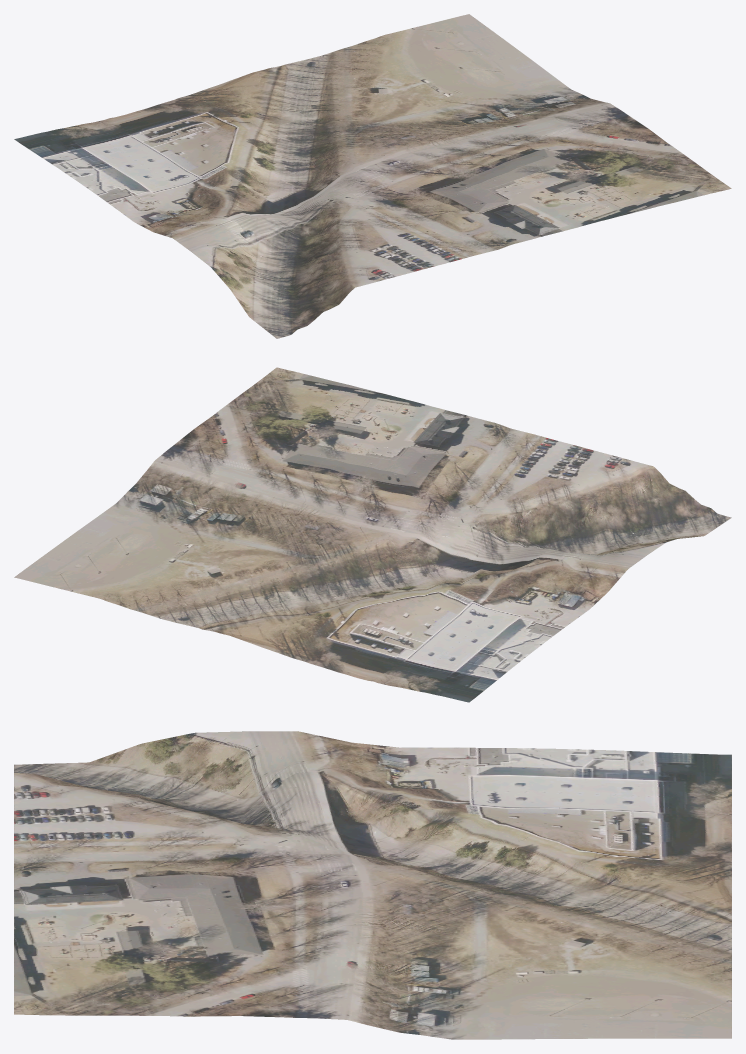
The model's file is CM_Terrain_24488410_6820613.fbx.
The picture shows the model from 3 angles, top to bottom: view 1: azimuth 30°, elevation 25°; view 2: azimuth 150°, elevation 25°; view 3: azimuth 270°, elevation 25°; orthographic projection. The views are drawn at different scales.
Parts seen in each view (by area): view 1: CM_Terrain_24488410_6820613_LOD0; view 2: CM_Terrain_24488410_6820613_LOD0; view 3: CM_Terrain_24488410_6820613_LOD0.
Boxes of the visible parts, left/top/right/bottom form: CM_Terrain_24488410_6820613_LOD0: left=14, top=14, right=731, bottom=338; CM_Terrain_24488410_6820613_LOD0: left=14, top=367, right=731, bottom=702; CM_Terrain_24488410_6820613_LOD0: left=14, top=731, right=731, bottom=1039.
Size of what is drawn, in the model's own units: 205 by 16.95 by 205.
